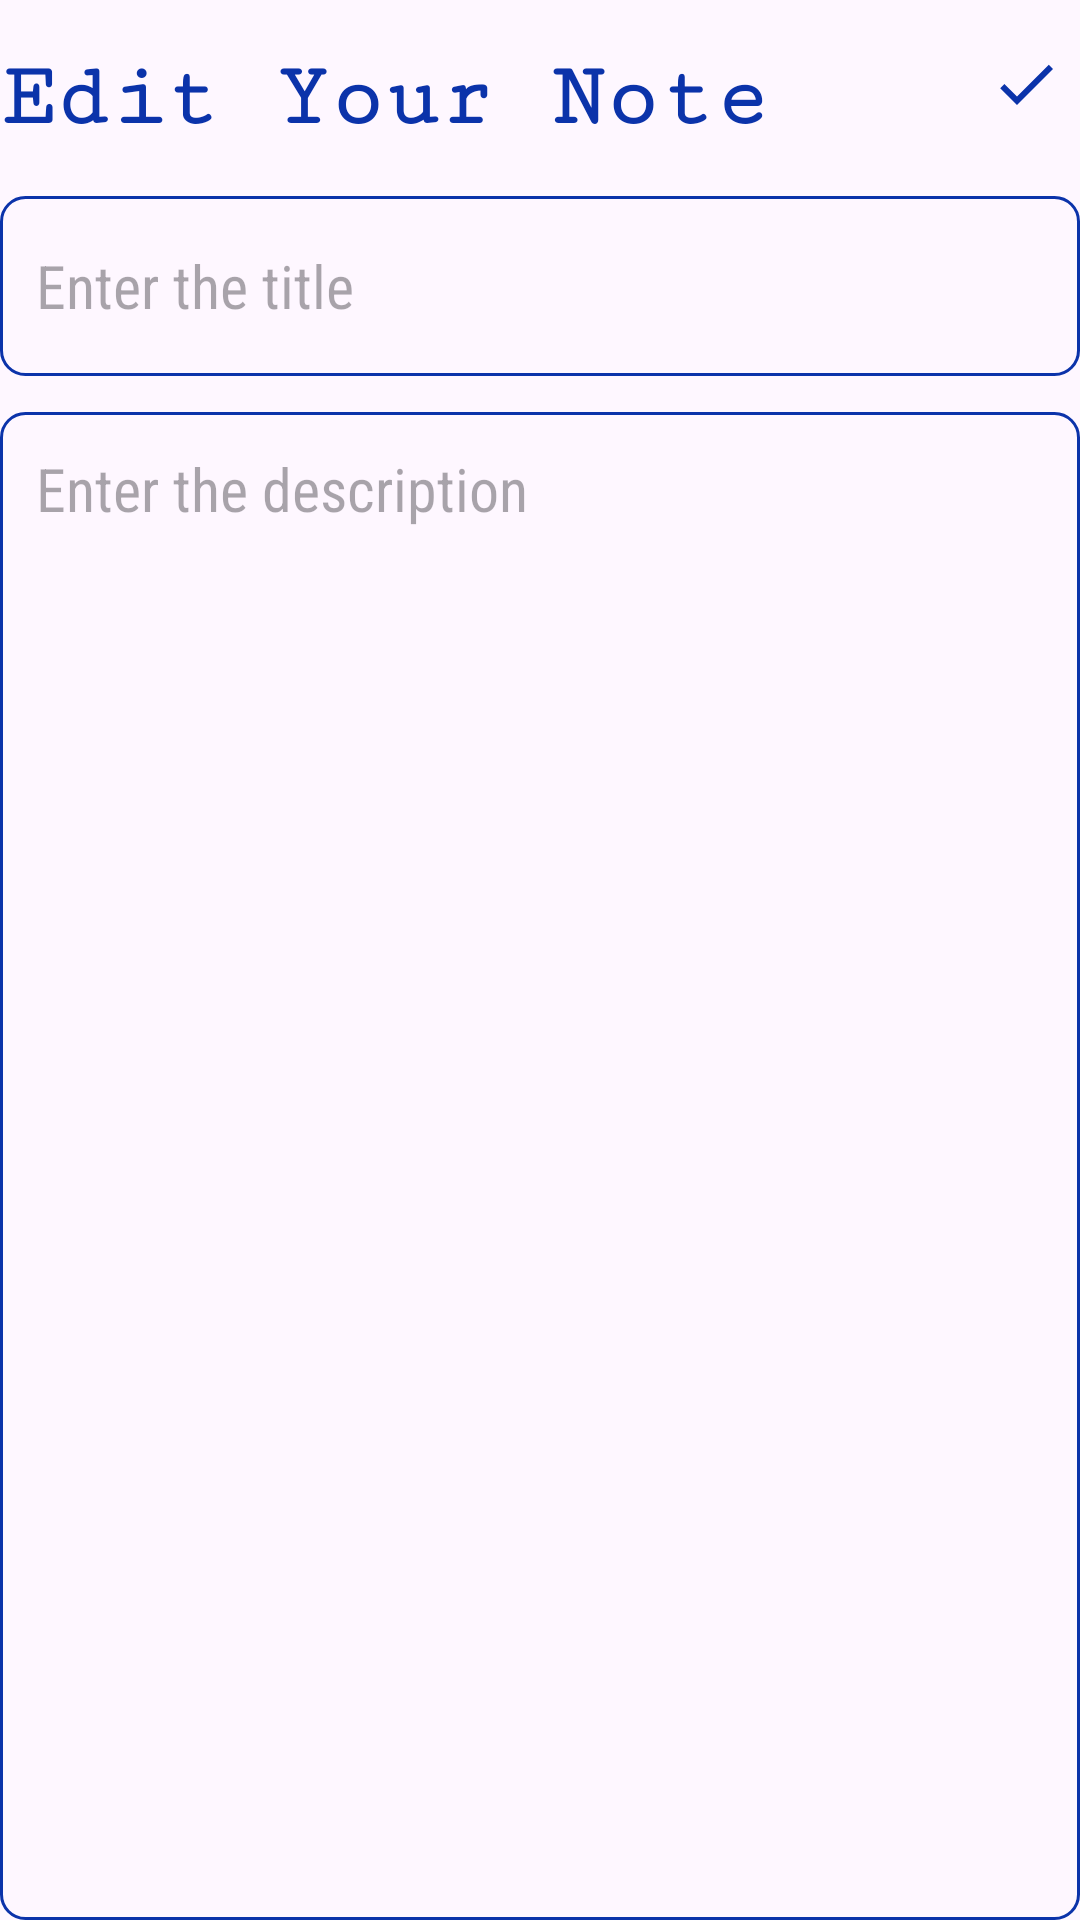

Icons on this 1080×1920 Android screen, each with the point to tap as [x,y]:
done: [1026,85]
